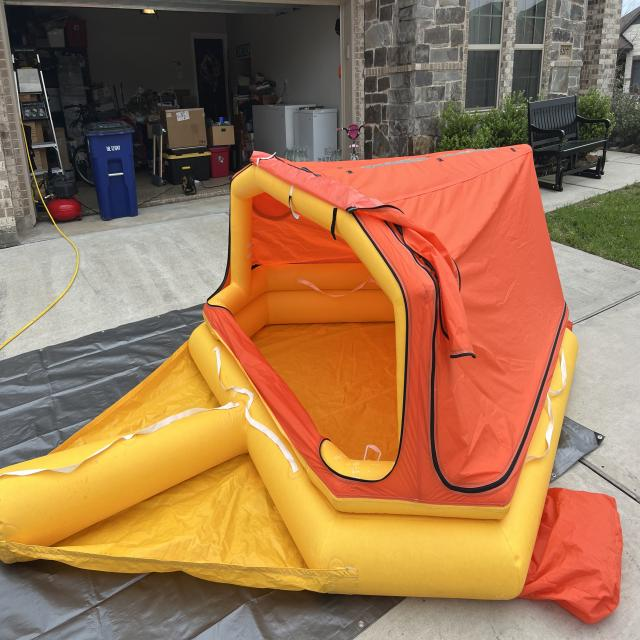Multi-person_life_raft: (0, 144, 624, 624)
